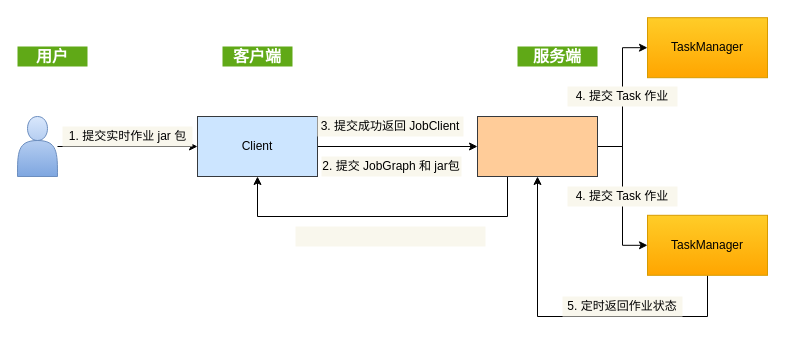
The diagram is 785 pixels wide and 342 high, and some of its shapes have lost their labels. The box of each missing label's shape, as (x1, y1, x2, y2) in pixels:
6. 返回作业执行状态到 Client: (295, 226, 485, 246)
JobManager: (476, 116, 598, 176)
